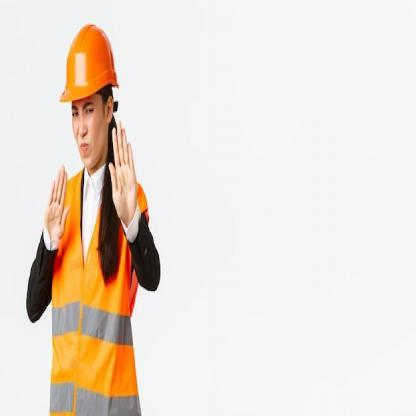stop: (106, 115, 139, 226), (43, 158, 72, 248)
